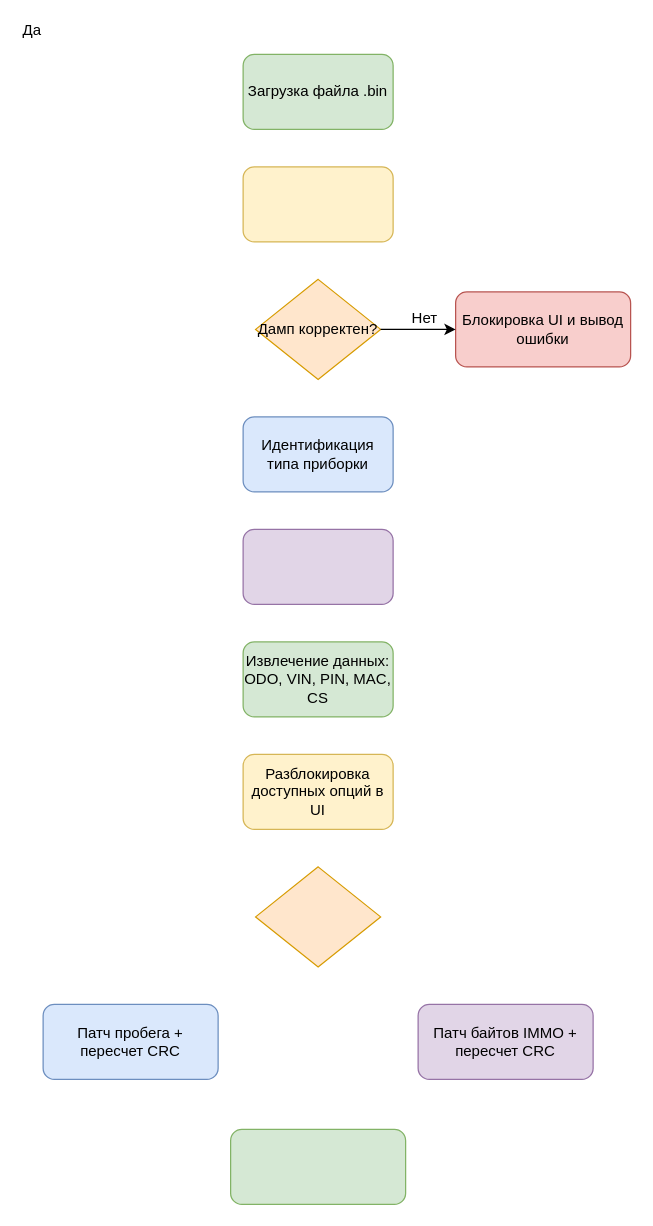
Image size: 653x1226. Some labels were removed from this diagram. Each missing label, with the box of its shape:
Действие пользователя: (254, 866, 381, 967)
Модуль декриптования VDO NEC: (242, 528, 393, 604)
Проверка размера и сигнатуры: (242, 166, 393, 242)
Сохранение модифицированного дампа: (229, 1128, 406, 1204)
